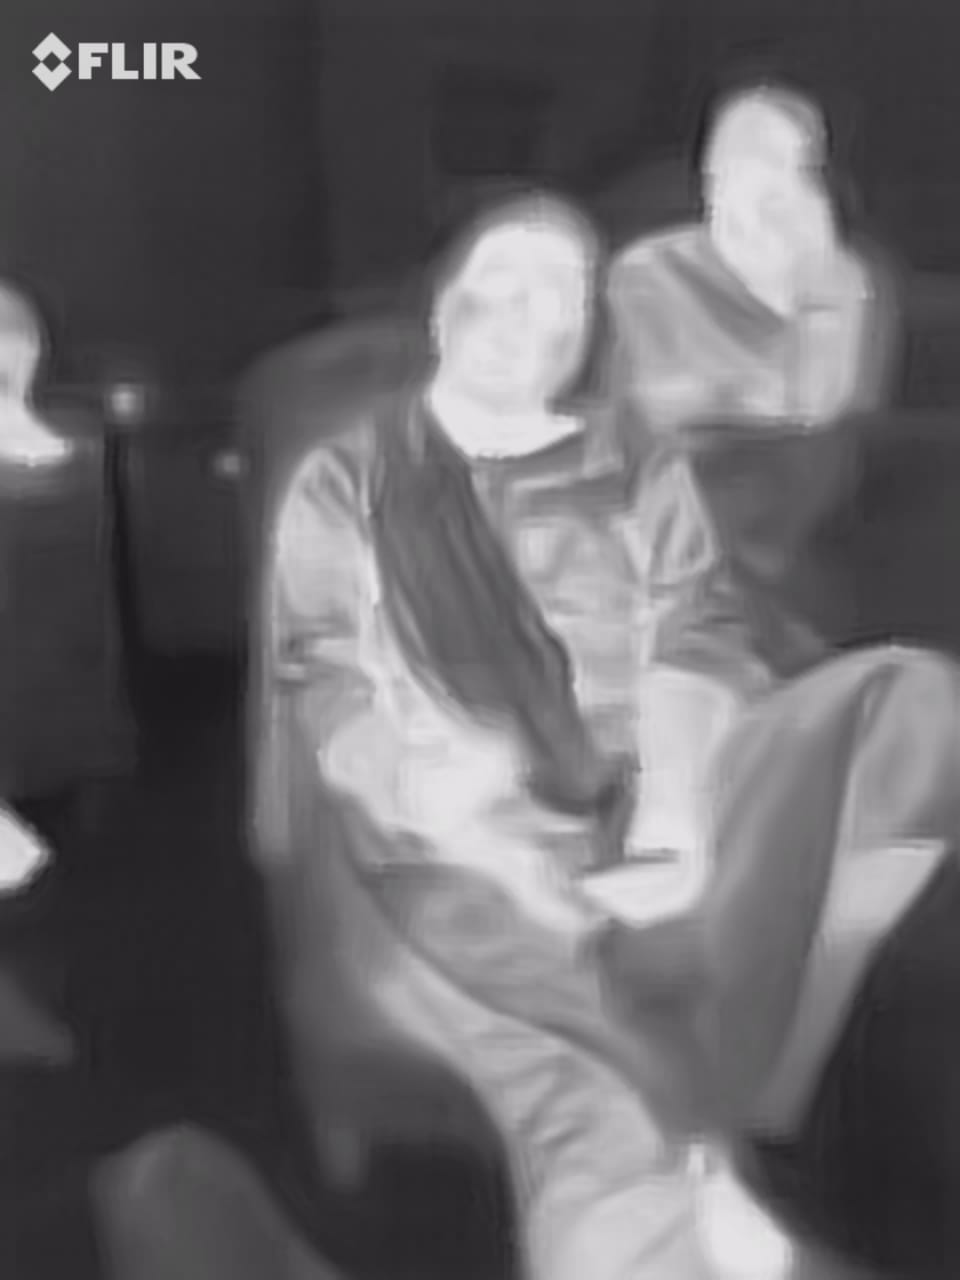head: (413, 188, 609, 438)
